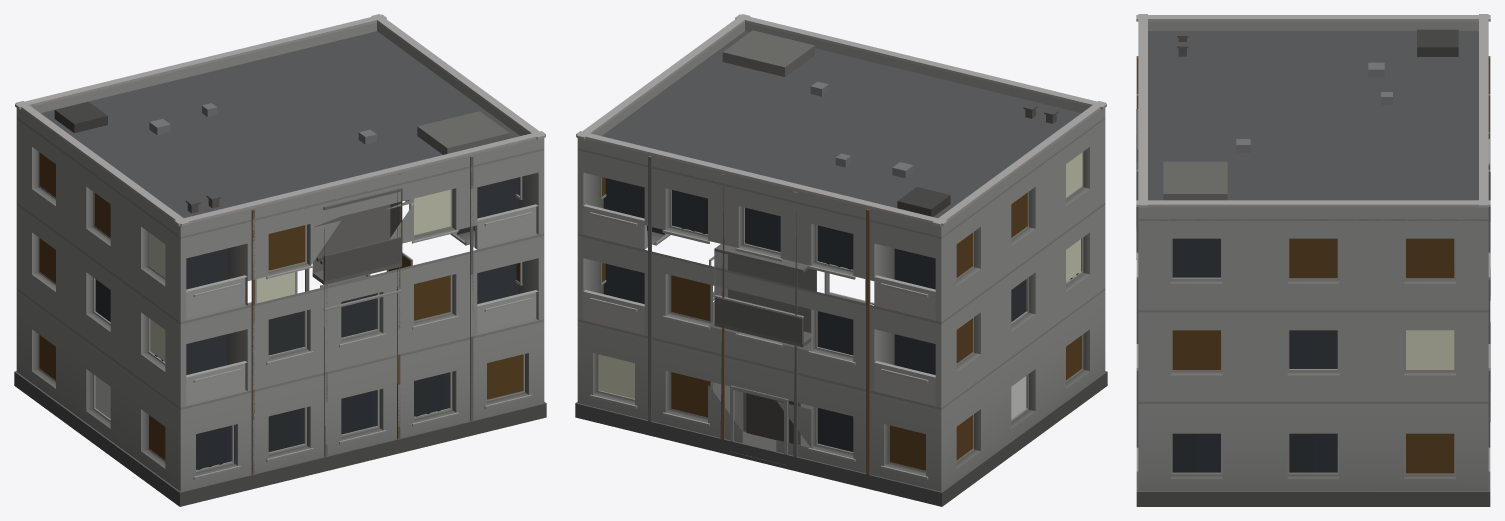
Rendered from building_block.glb.
3 views of the same model, side by side, from view 1: azimuth 30°, elevation 25°; view 2: azimuth 150°, elevation 25°; view 3: azimuth 270°, elevation 25° (orthographic). The views are drawn at different scales.
Parts seen in each view (by area): view 1: building_block.001; view 2: building_block.001; view 3: building_block.001.
Part boxes in pixels (bbox=[...]): building_block.001: bbox=[14, 14, 546, 506]; building_block.001: bbox=[575, 14, 1107, 506]; building_block.001: bbox=[1136, 14, 1490, 506].
Bounding box in the file's own units: 14.14 × 10.39 × 11.06.
